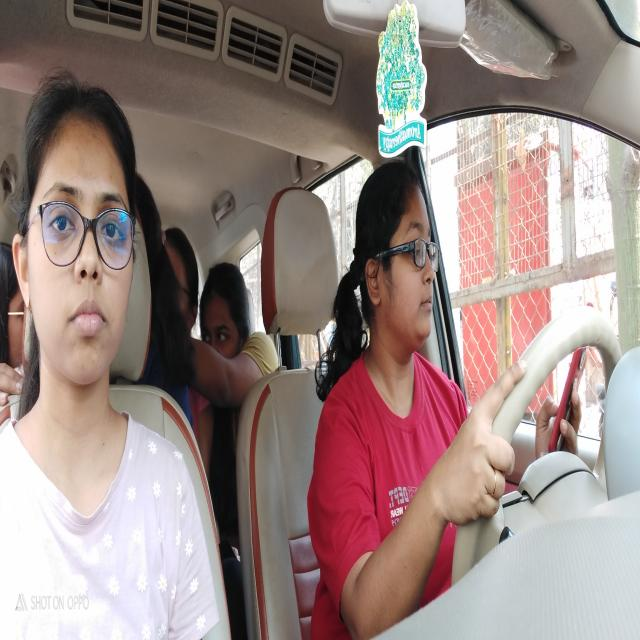mobile: (541, 336, 591, 463)
person: (15, 64, 144, 412), (353, 168, 445, 355), (197, 280, 252, 385), (0, 226, 32, 380), (162, 227, 198, 355)
